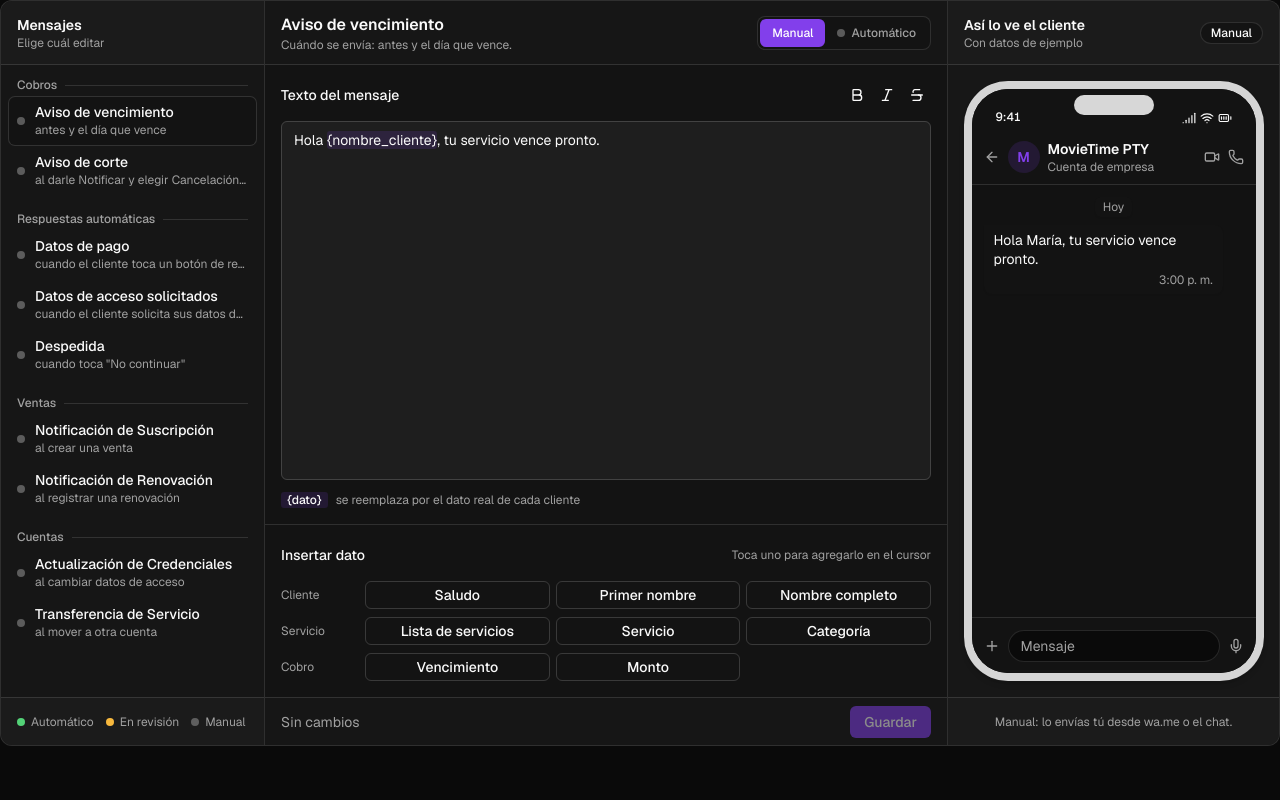
Test case: TemplateEditor › asks to link a template when automatic is chosen without one
What coordinates should you click on to do the following:
click the button "Automático"
I would click on:
 (877, 32)
Its box is [826,18,928,46].
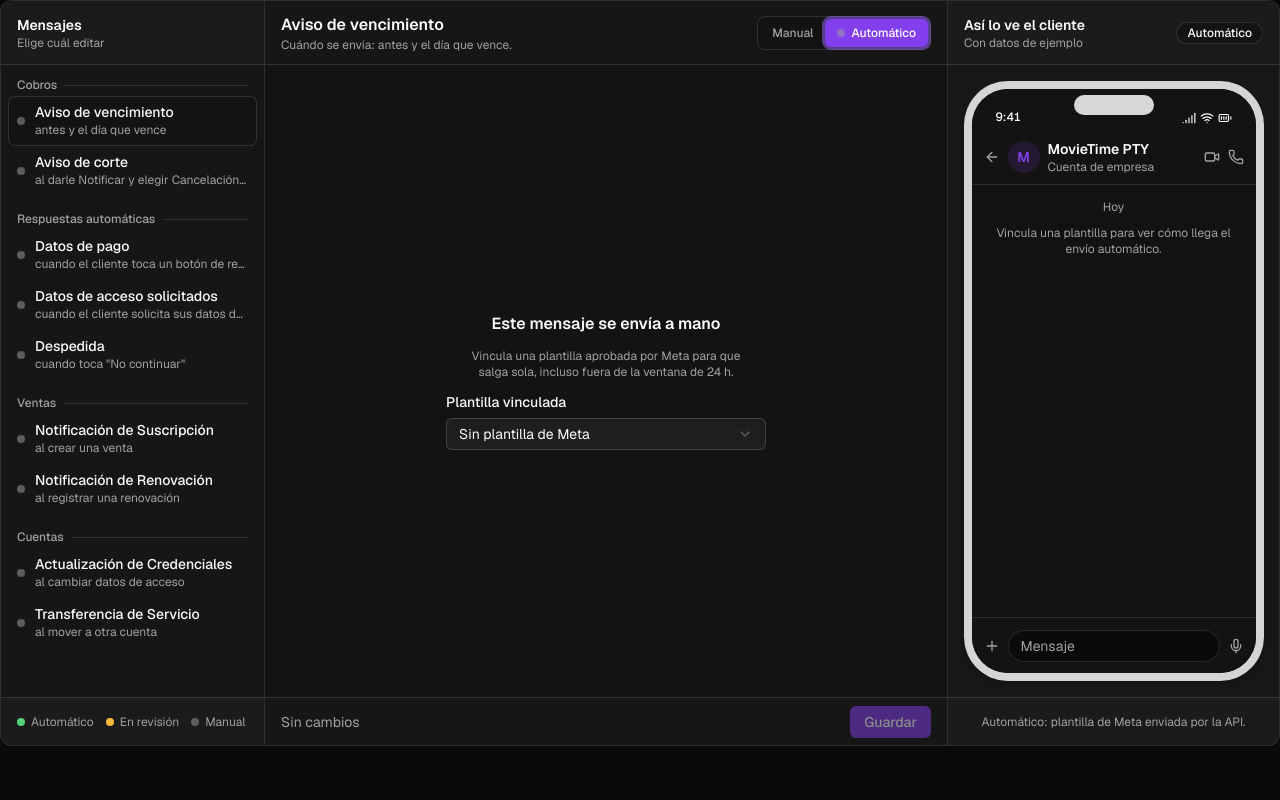
Check: the heading "Este mensaje se envía a mano" is shown, box [492,312,720,336]
Check: the element with test id "preview-bubble" shows "Vincula una plantilla", box [996,225,1231,257]
